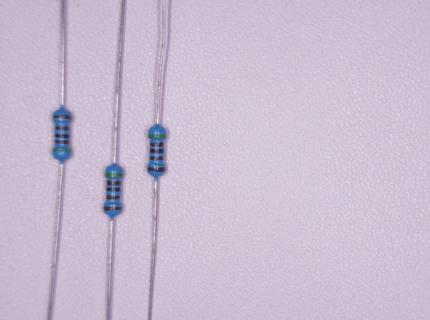Black band: (106, 187, 121, 192), (55, 133, 70, 138), (150, 149, 164, 153)
Brown band: (103, 206, 123, 211), (147, 167, 166, 172), (55, 139, 69, 145), (53, 115, 72, 119), (55, 126, 70, 131), (106, 195, 121, 200), (150, 142, 164, 147), (150, 156, 164, 161), (107, 180, 121, 185)
Green band: (52, 148, 72, 153), (105, 173, 123, 178), (148, 134, 166, 139)
